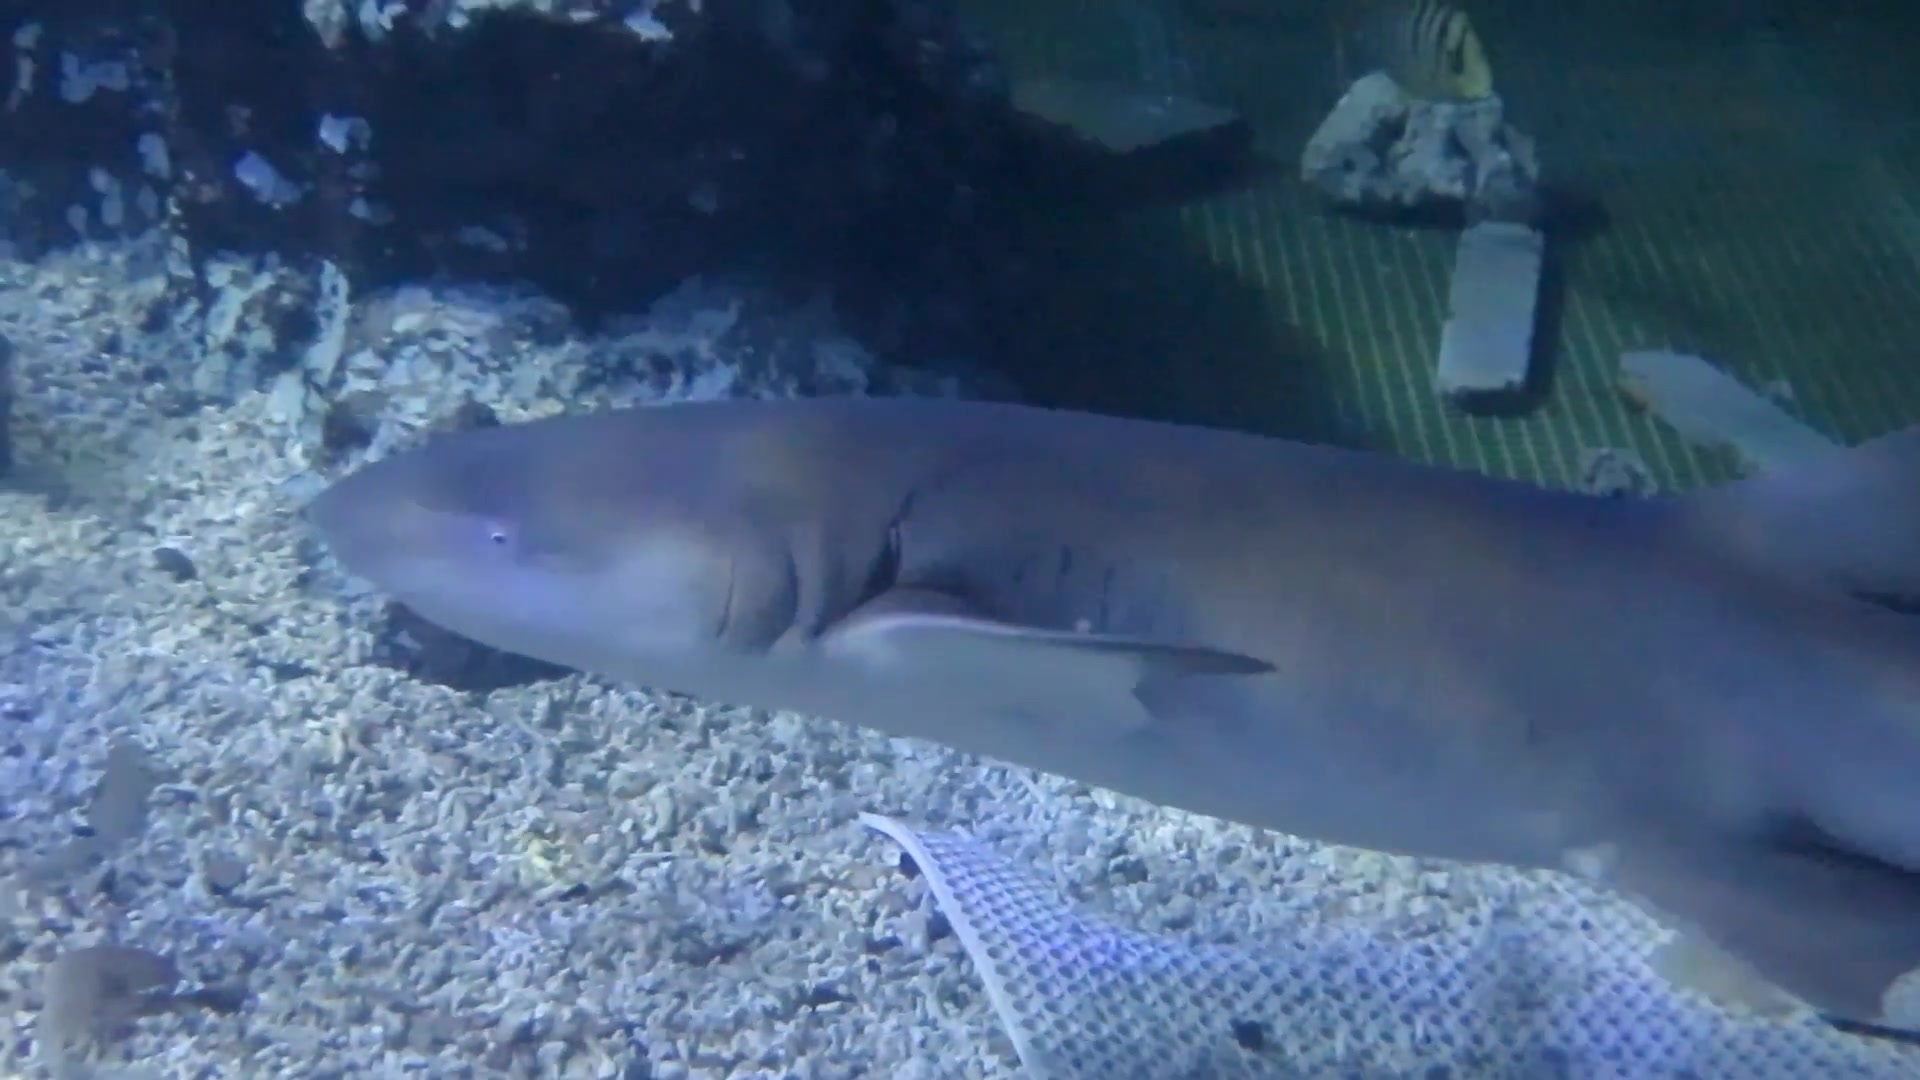Nebrius ferrugineus: (316, 372, 1908, 911)
